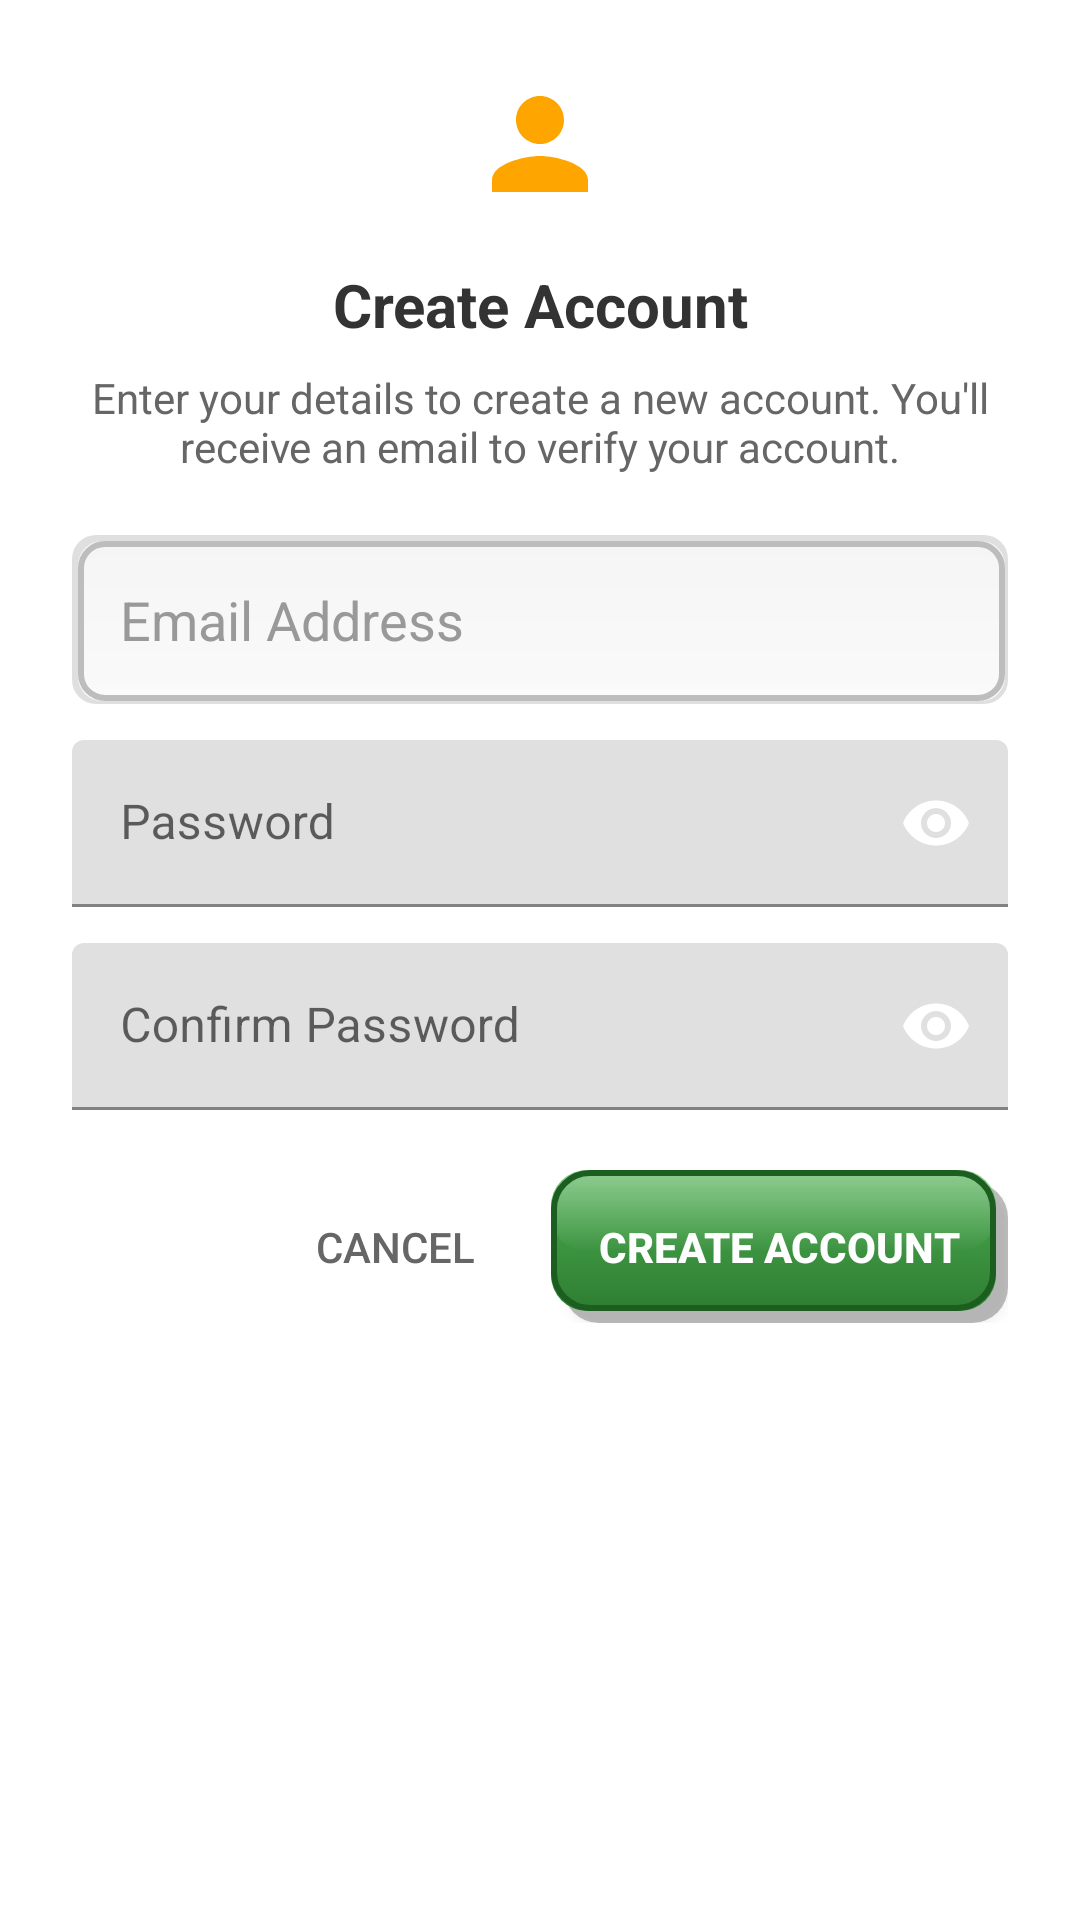

Icon bounding boxes for this 1080 x 1920 phone screenshot, format (x1, y1, x2, y2):
profile: (492, 96, 588, 192)
